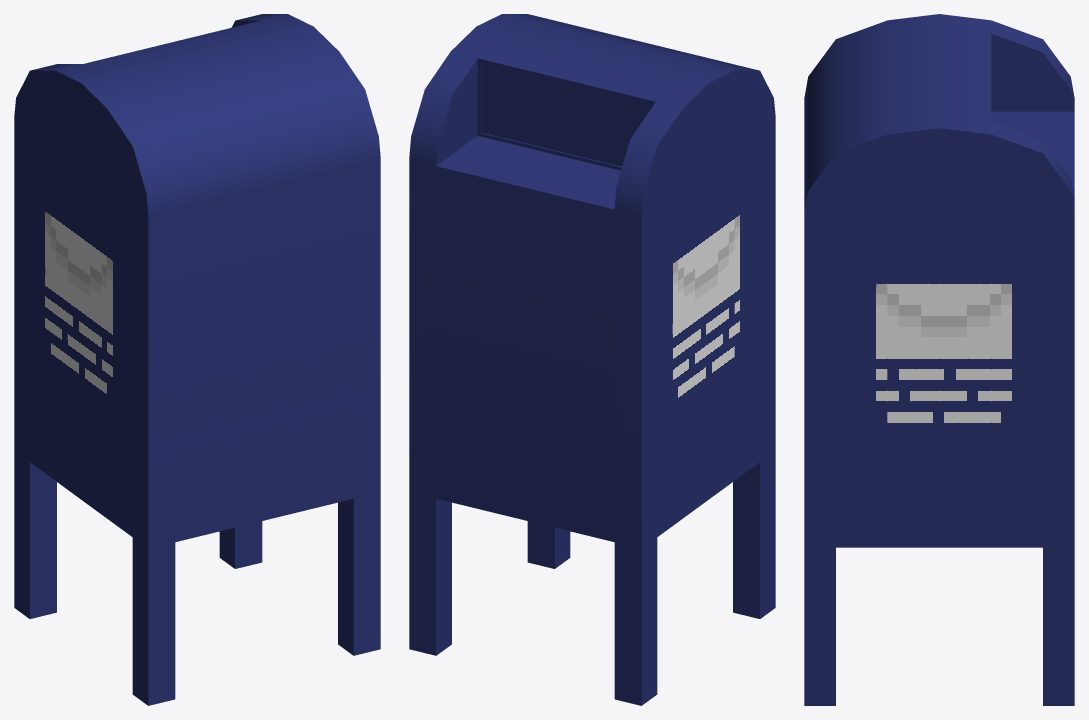
The model's file is MailDropBox.fbx.
3 views of the same model, side by side, from view 1: azimuth 30°, elevation 25°; view 2: azimuth 150°, elevation 25°; view 3: azimuth 270°, elevation 25° (orthographic).
Parts seen in each view (by area): view 1: Cube; view 2: Cube; view 3: Cube.
Boxes of the visible parts, x1,y1,x2,y2 form: Cube: (14,14,380,705); Cube: (409,14,775,705); Cube: (804,14,1074,705).
Size of the model in its own units: 100 by 236 by 100.
Materials: 1 (1 with a texture image).
